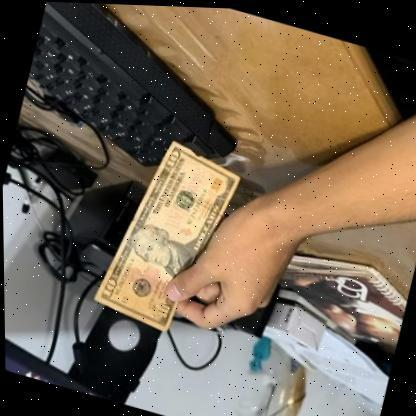ten-front: (82, 125, 250, 347)
